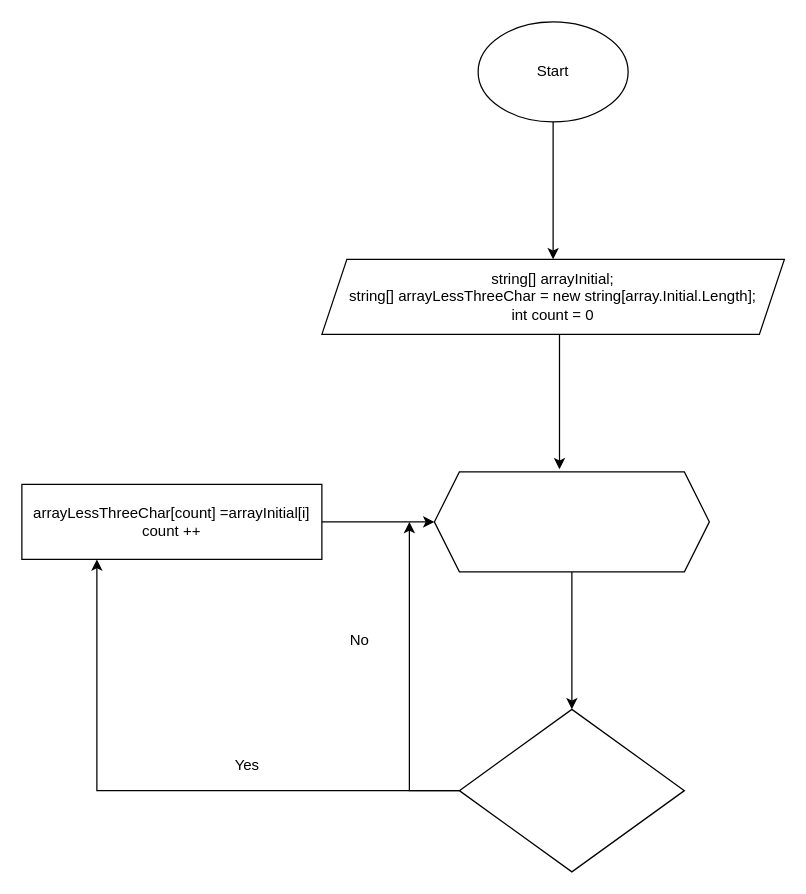
The diagram is 806 pixels wide and 894 high, and some of its shapes have lost their labels. The shapes that lost their labels are listed below. From the top down, each one's centre as x and y in pixels, then its label:
the point at 571,521: for (i = 0; i <arrayInitial.Length; i ++)
the point at 571,790: if(arrayInitial[i].Length <= 3)
